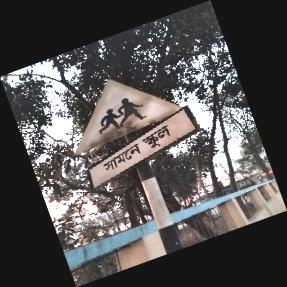School-in-front: (76, 80, 198, 190)
